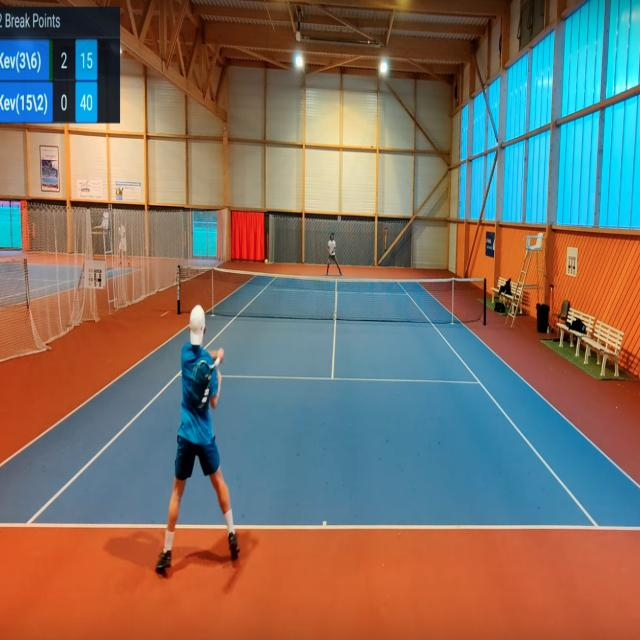ball: (264, 258, 268, 264)
